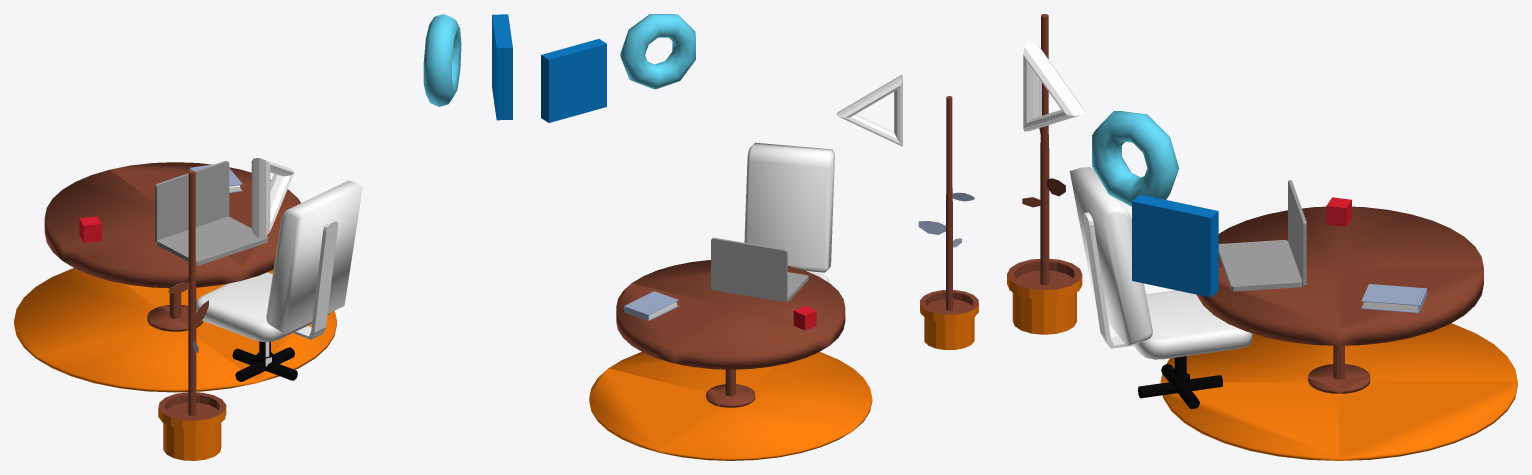
The model's file is desk.glb.
The picture shows the model from 3 angles, left to right: view 1: azimuth 30°, elevation 25°; view 2: azimuth 150°, elevation 25°; view 3: azimuth 270°, elevation 25°; orthographic projection. The views are drawn at different scales.
Parts seen in each view (by area): view 1: Rug, Table, Chair, Computer, Plant, React, Three, TypeScript, Rubik; view 2: Rug, Table, Chair, Plant, TypeScript, Computer, React, Three, Notebook, Rubik; view 3: Rug, Table, Chair, TypeScript, Plant, React, Computer, Three, Notebook, Rubik.
Boxes of the visible parts, x1=… form: Rug: x1=14, y1=268, x2=336, y2=392; Table: x1=44, y1=162, x2=300, y2=331; Chair: x1=196, y1=180, x2=362, y2=381; Computer: x1=155, y1=161, x2=267, y2=265; Plant: x1=158, y1=171, x2=226, y2=460; React: x1=423, y1=14, x2=461, y2=106; Three: x1=251, y1=158, x2=294, y2=238; TypeScript: x1=492, y1=14, x2=512, y2=120; Rubik: x1=79, y1=216, x2=101, y2=242; Rug: x1=589, y1=352, x2=872, y2=460; Table: x1=616, y1=260, x2=845, y2=407; Chair: x1=744, y1=142, x2=834, y2=282; Plant: x1=918, y1=96, x2=978, y2=349; TypeScript: x1=541, y1=39, x2=606, y2=122; Computer: x1=711, y1=237, x2=808, y2=301; React: x1=620, y1=14, x2=695, y2=89; Three: x1=836, y1=75, x2=902, y2=146; Notebook: x1=624, y1=291, x2=678, y2=320; Rubik: x1=793, y1=306, x2=816, y2=330; Rug: x1=1160, y1=323, x2=1517, y2=460; Table: x1=1197, y1=206, x2=1483, y2=393; Chair: x1=1069, y1=167, x2=1252, y2=408; TypeScript: x1=1132, y1=194, x2=1218, y2=297; Plant: x1=1007, y1=14, x2=1082, y2=334; React: x1=1092, y1=111, x2=1179, y2=206; Computer: x1=1218, y1=180, x2=1306, y2=291; Three: x1=1023, y1=42, x2=1085, y2=131; Notebook: x1=1361, y1=284, x2=1427, y2=313; Rubik: x1=1326, y1=197, x2=1351, y2=226.
Bounding box in the file's own units: 2.91 × 2.19 × 2.77.
